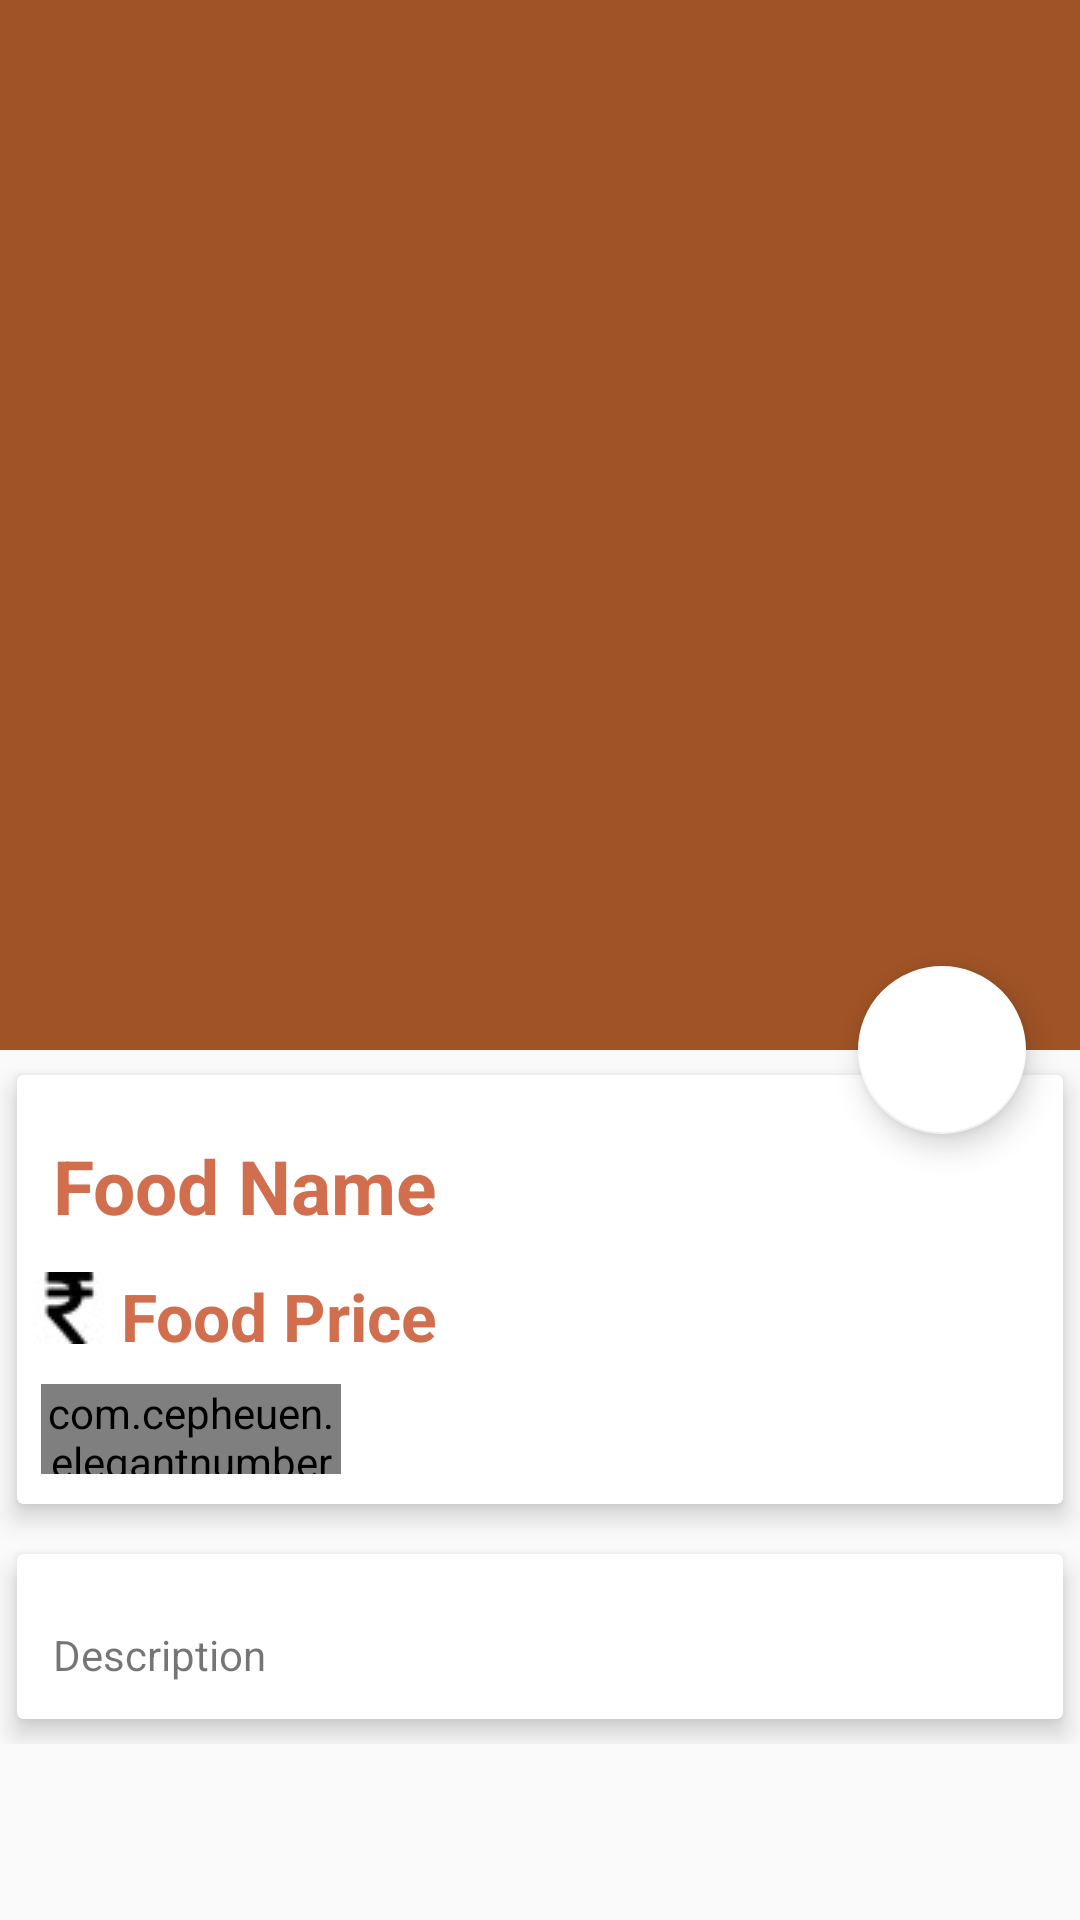

Icons on this 1080x1920 Android screen, each with its box as bbox(x1, y1, x2, y2):
rupee: bbox(44, 1272, 94, 1344)
